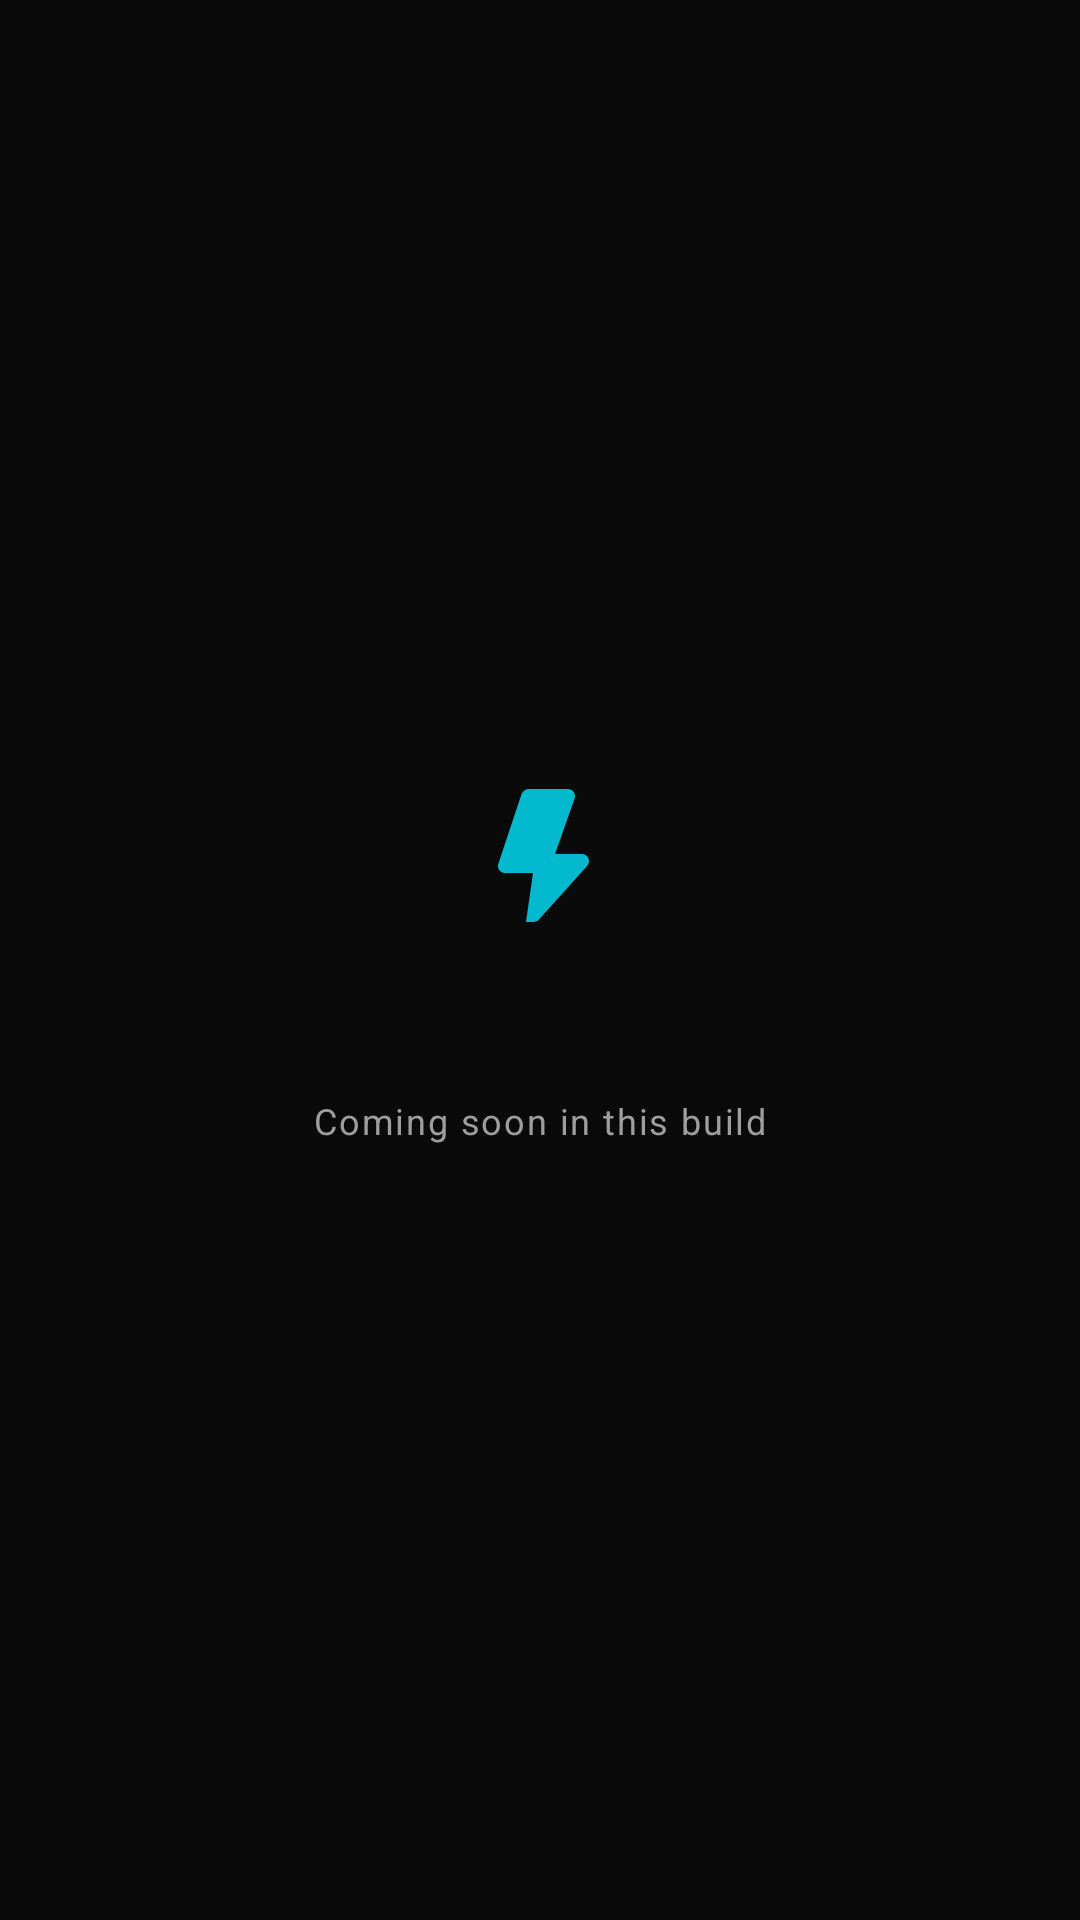

Screen size 1080px×1920px. Icon name, then its box in pixels as detection(x1, y1, x2, y2):
bolt: detection(498, 789, 589, 922)
